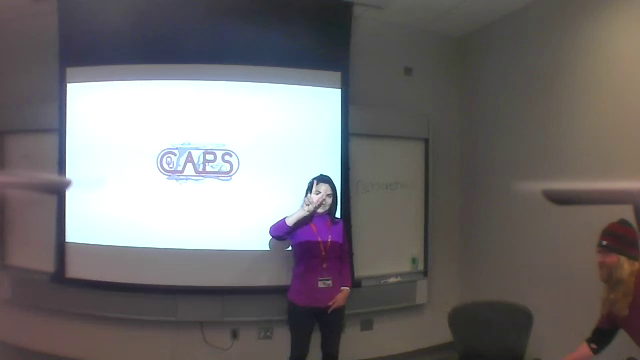peace: (299, 177, 332, 216)
